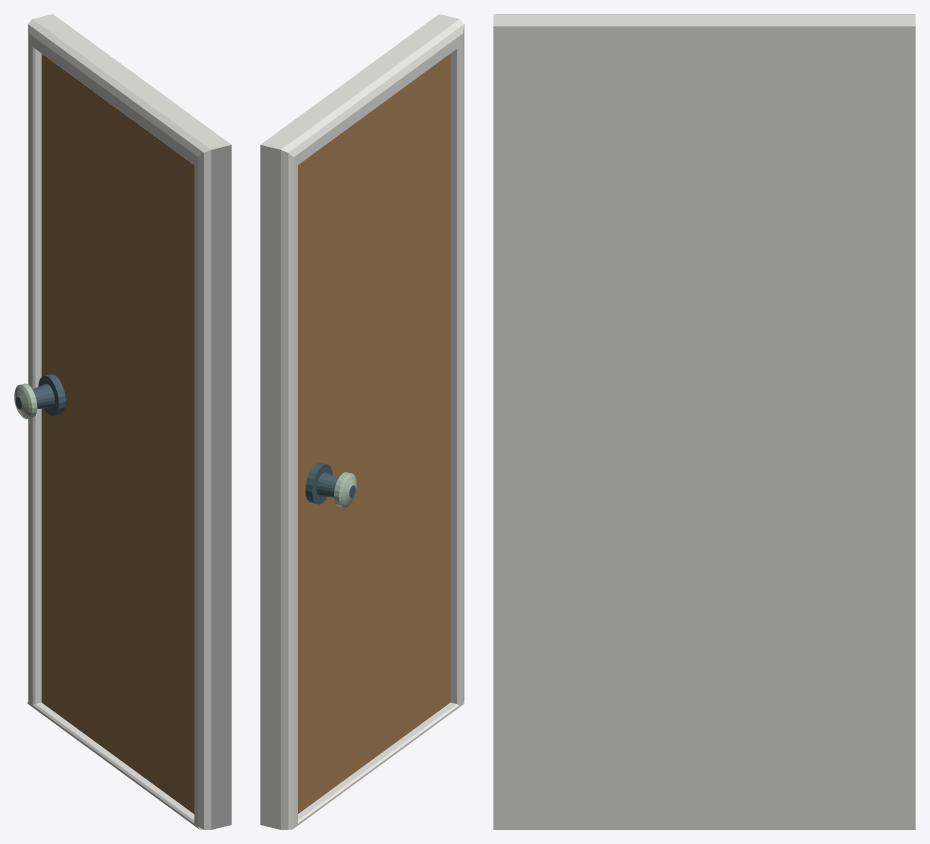
The model's file is door_v2.fbx.
3 renders of one model, left to right at view 1: azimuth 30°, elevation 25°; view 2: azimuth 150°, elevation 25°; view 3: azimuth 270°, elevation 25°, orthographic. The views are drawn at different scales.
Parts seen in each view (by area): view 1: door1; view 2: door1; view 3: door1.
Part boxes in pixels (x1,y1,x2,y2): door1: [14, 14, 231, 829]; door1: [260, 14, 464, 829]; door1: [493, 14, 915, 829].
Bounding box in the file's own units: 0.5503 × 5.66 × 2.7.
